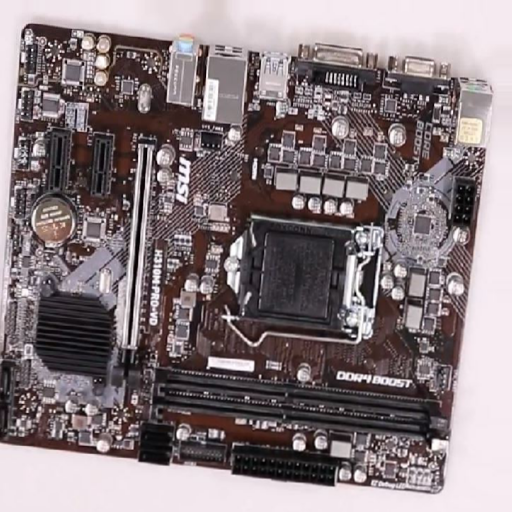CPU: (226, 214, 384, 338)
GPU: (110, 138, 159, 389)
MOTHERBOARD: (1, 27, 492, 495)
RAM: (152, 367, 444, 440)
